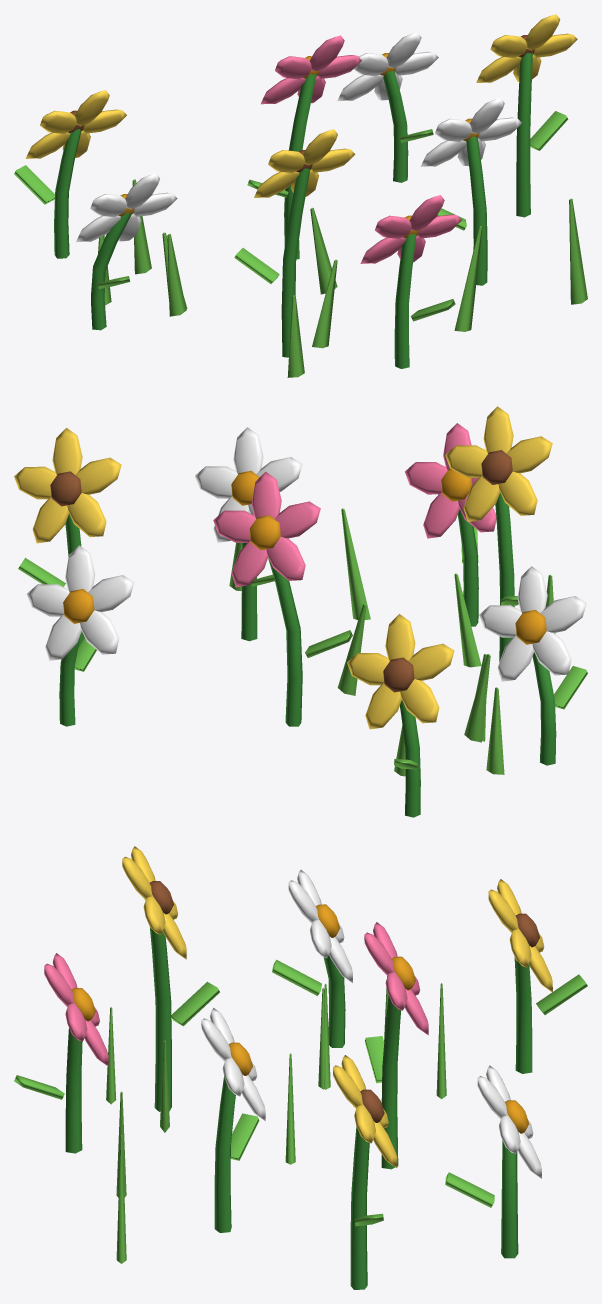
File: flowers.glb
3 renders of one model, top to bottom at view 1: azimuth 30°, elevation 25°; view 2: azimuth 150°, elevation 25°; view 3: azimuth 270°, elevation 25°, orthographic. The views are drawn at different scales.
Visible parts, largest first — view 1: flowers; view 2: flowers; view 3: flowers.
Boxes of the visible parts, left/top/right/bottom form: flowers: left=14, top=14, right=587, bottom=377; flowers: left=14, top=406, right=587, bottom=817; flowers: left=14, top=846, right=587, bottom=1289.
Bounding box in the file's own units: 0.8972 × 0.3918 × 0.7628.
